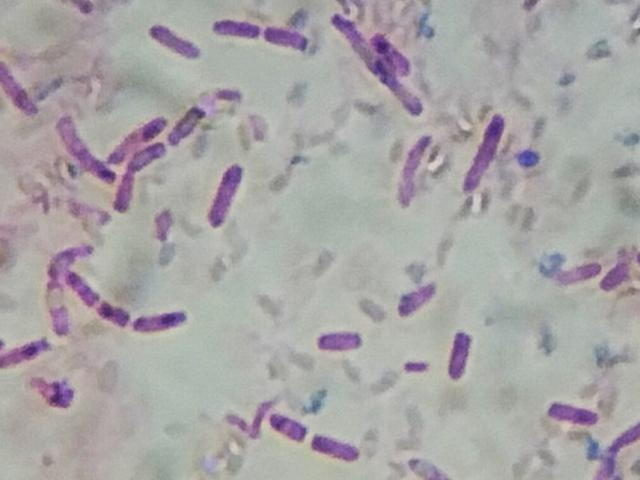E. coli: (57, 110, 114, 191), (463, 105, 507, 203), (395, 127, 436, 209), (112, 115, 171, 166), (210, 160, 246, 236), (0, 61, 47, 115), (149, 20, 205, 65), (305, 430, 369, 466), (132, 310, 205, 341), (374, 35, 420, 79), (113, 164, 149, 216), (544, 395, 596, 430), (450, 324, 479, 383), (0, 336, 48, 371), (167, 102, 209, 142), (313, 324, 365, 356), (262, 21, 312, 52), (600, 254, 634, 299), (266, 410, 309, 444), (66, 268, 103, 305), (214, 17, 262, 45), (552, 256, 601, 282), (98, 300, 133, 334)
